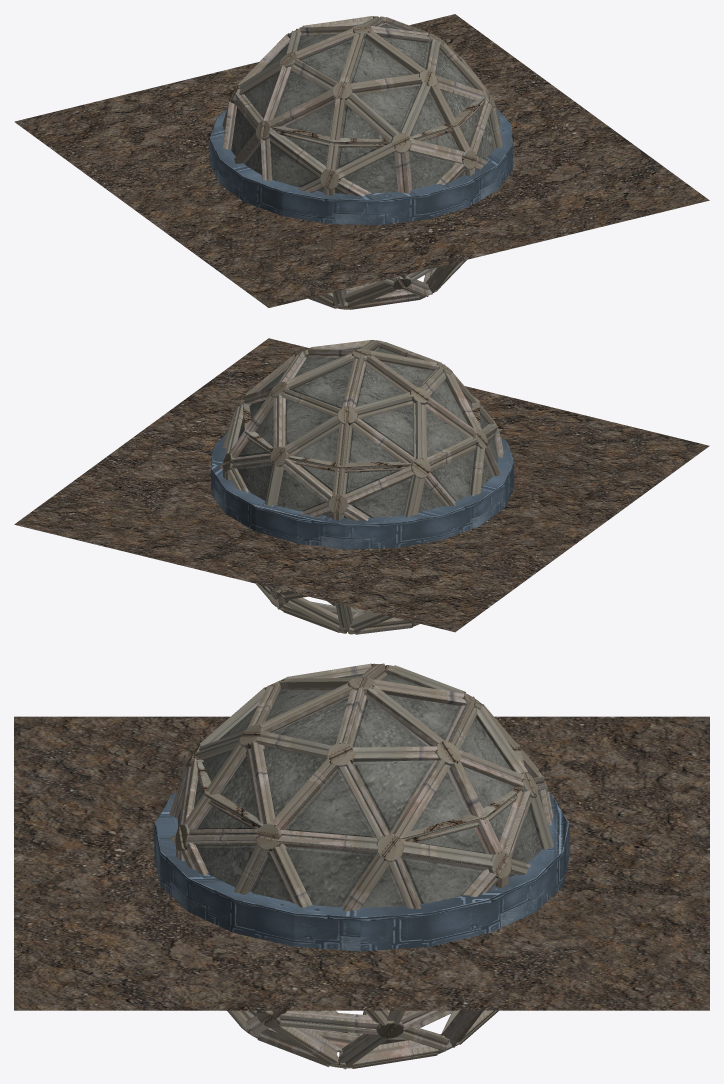
Rendered from static.fbx.
3 views of the same model, one above another, from view 1: azimuth 30°, elevation 25°; view 2: azimuth 150°, elevation 25°; view 3: azimuth 270°, elevation 25° (orthographic). The views are drawn at different scales.
Parts seen in each view (by area): view 1: scorch, Boole_47, Sphere, Tube_6, Tube_2, Tube; view 2: scorch, Boole_47, Sphere, Tube_6, Tube_3, Tube_4; view 3: scorch, Boole_47, Sphere, Tube_6, Tube_4, Tube.
Part boxes in pixels (<box>): scorch: <box>14,14,709,307</box>; Boole_47: <box>222,16,502,309</box>; Sphere: <box>231,23,494,193</box>; Tube_6: <box>209,107,512,224</box>; Tube_2: <box>272,126,391,147</box>; Tube: <box>409,96,484,141</box>; scorch: <box>14,338,709,632</box>; Boole_47: <box>219,340,503,634</box>; Sphere: <box>237,347,497,518</box>; Tube_6: <box>211,433,514,549</box>; Tube_3: <box>289,455,411,472</box>; Tube_4: <box>243,400,273,453</box>; scorch: <box>14,716,709,1010</box>; Boole_47: <box>169,663,554,1069</box>; Sphere: <box>178,673,542,907</box>; Tube_6: <box>154,792,569,951</box>; Tube_4: <box>400,787,521,842</box>; Tube: <box>196,759,263,828</box>.
Bounding box in the file's own units: 982 × 575 × 982.
Materials: 5 (5 with a texture image).
